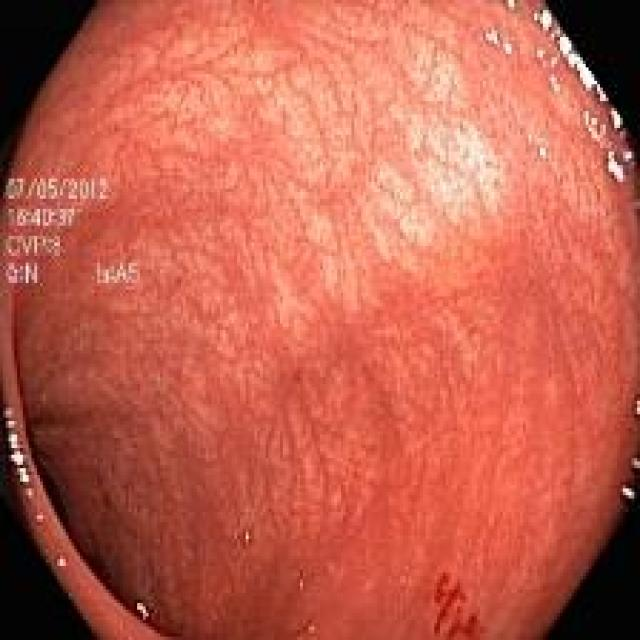ulcerative-colitis-grade-1: (0, 1, 640, 637)
